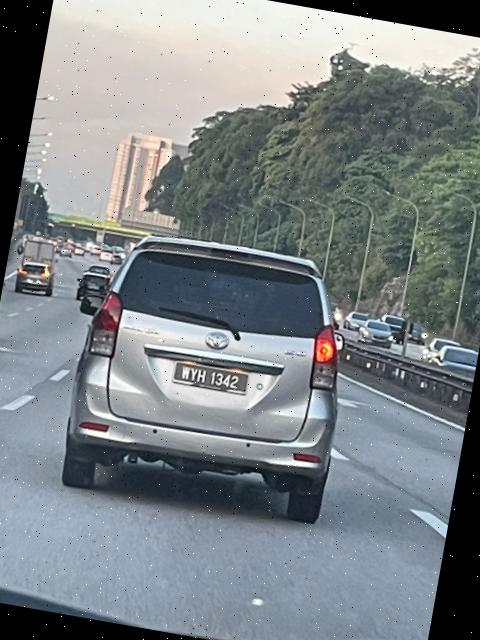License_Plate: (173, 360, 254, 400)
car: (48, 220, 369, 535)
